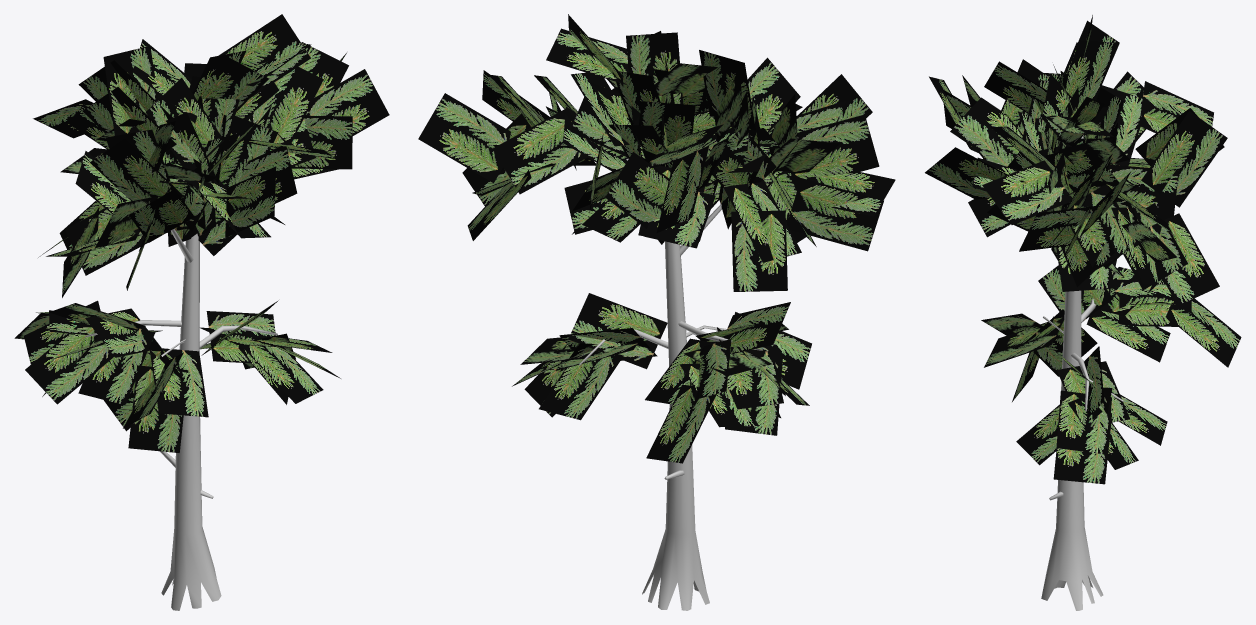
The model's file is Tree 3 - Lod 1.fbx.
The picture shows the model from 3 angles, left to right: view 1: azimuth 30°, elevation 25°; view 2: azimuth 150°, elevation 25°; view 3: azimuth 270°, elevation 25°; orthographic projection. The views are drawn at different scales.
Visible parts, largest first — view 1: Circle; view 2: Circle; view 3: Circle.
Boxes of the visible parts, box(x1,y1,x2,y2) form: Circle: box(14, 14, 389, 610); Circle: box(418, 14, 895, 610); Circle: box(925, 15, 1241, 610).
Bounding box in the file's own units: 3.3 × 4.75 × 2.48.
